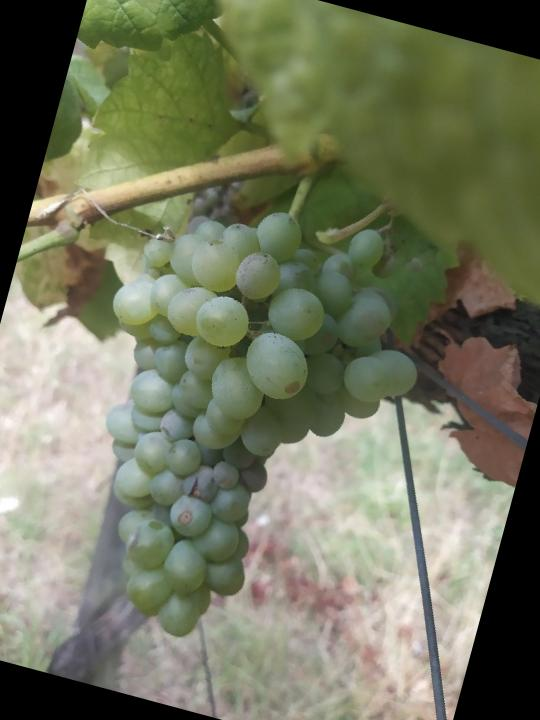grape: (32, 168, 453, 684)
